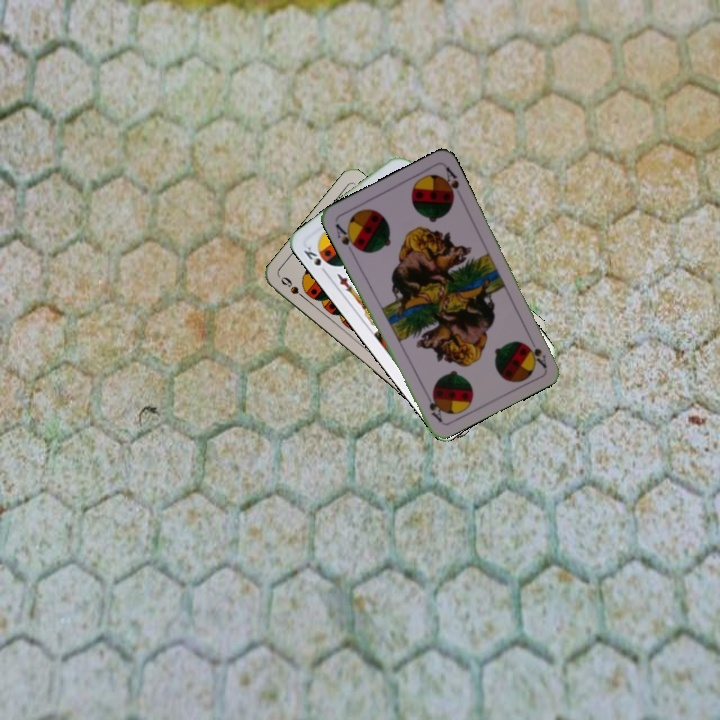S9: (277, 273, 311, 304)
SA: (331, 219, 361, 253), (523, 332, 549, 370)
SK: (300, 242, 330, 277)
